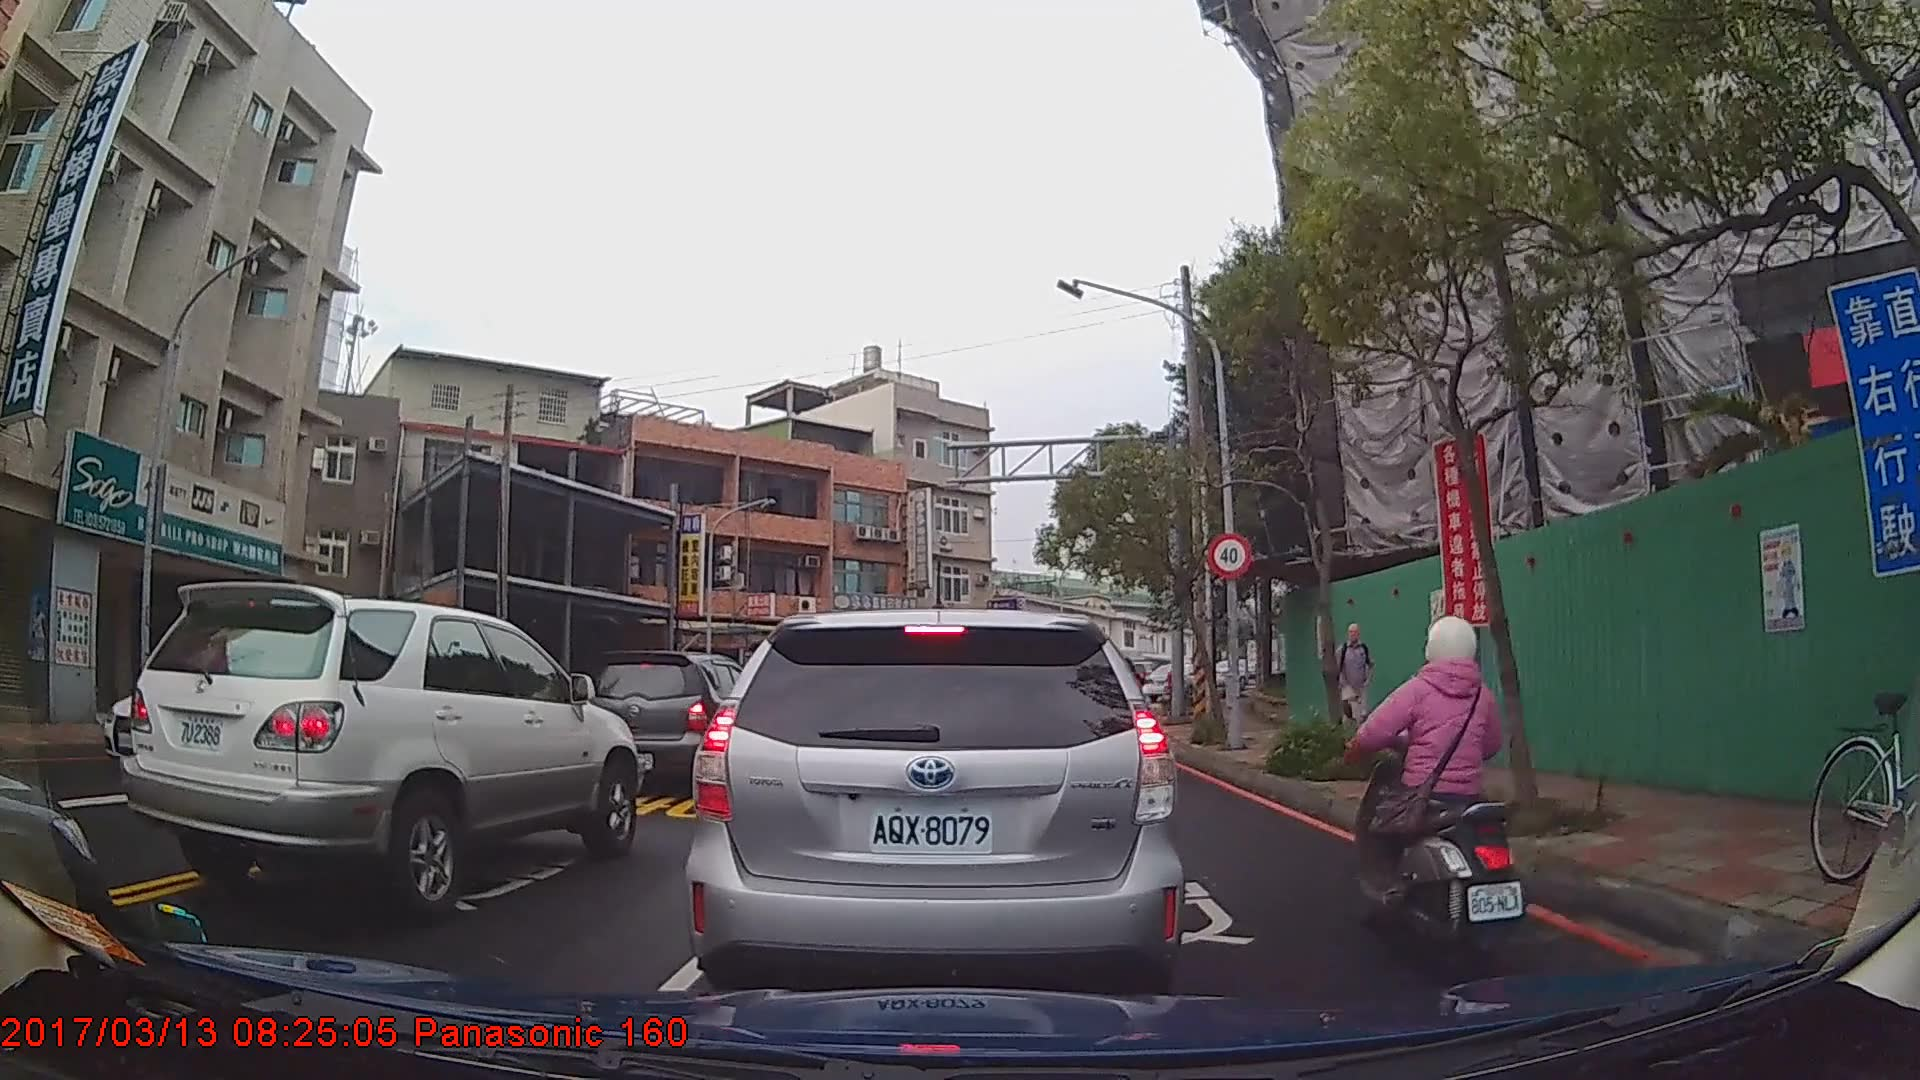pedestrian: (1335, 624, 1378, 752)
rider: (1339, 613, 1529, 968)
vehicle: (681, 608, 1183, 1023), (123, 578, 645, 919), (585, 647, 768, 787)
